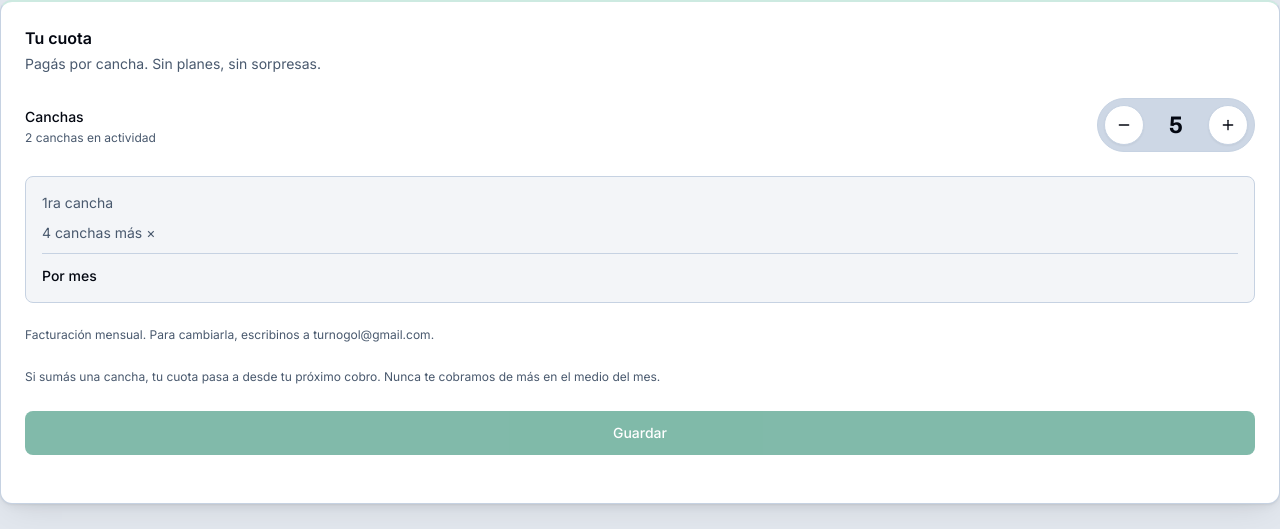
Test: CuotaSection — el stepper no baja de las canchas online › con margen (onlineCourts=2, billedCourts=5), sí puede bajar hasta el piso
Click the button named "Quitar una cancha": (1124, 125) [1104, 105, 1144, 145]
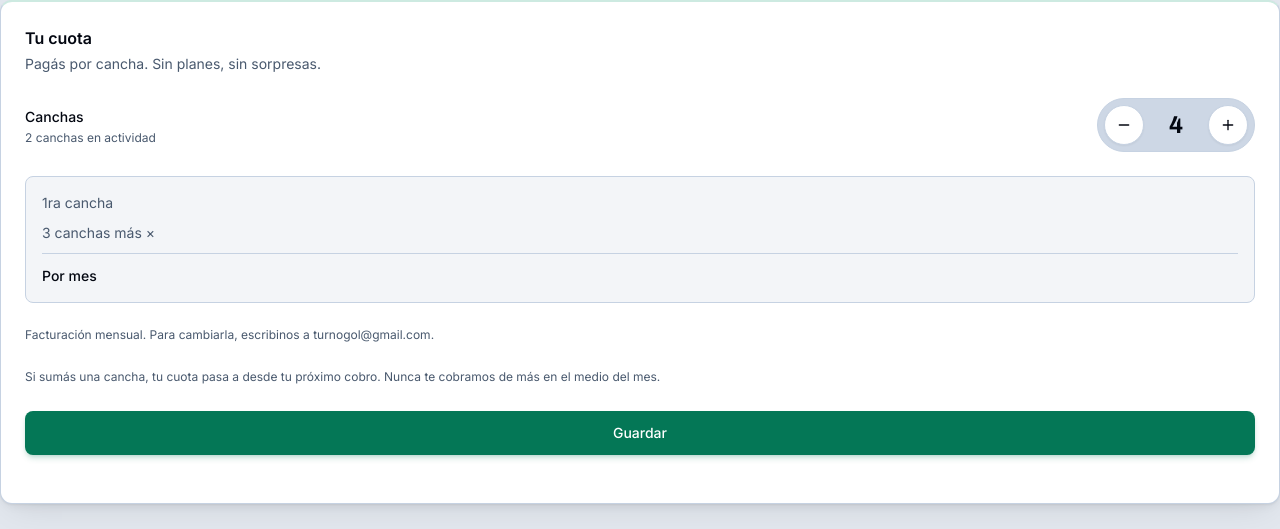
Result: the text "4" is shown at [1169, 112, 1183, 138]
